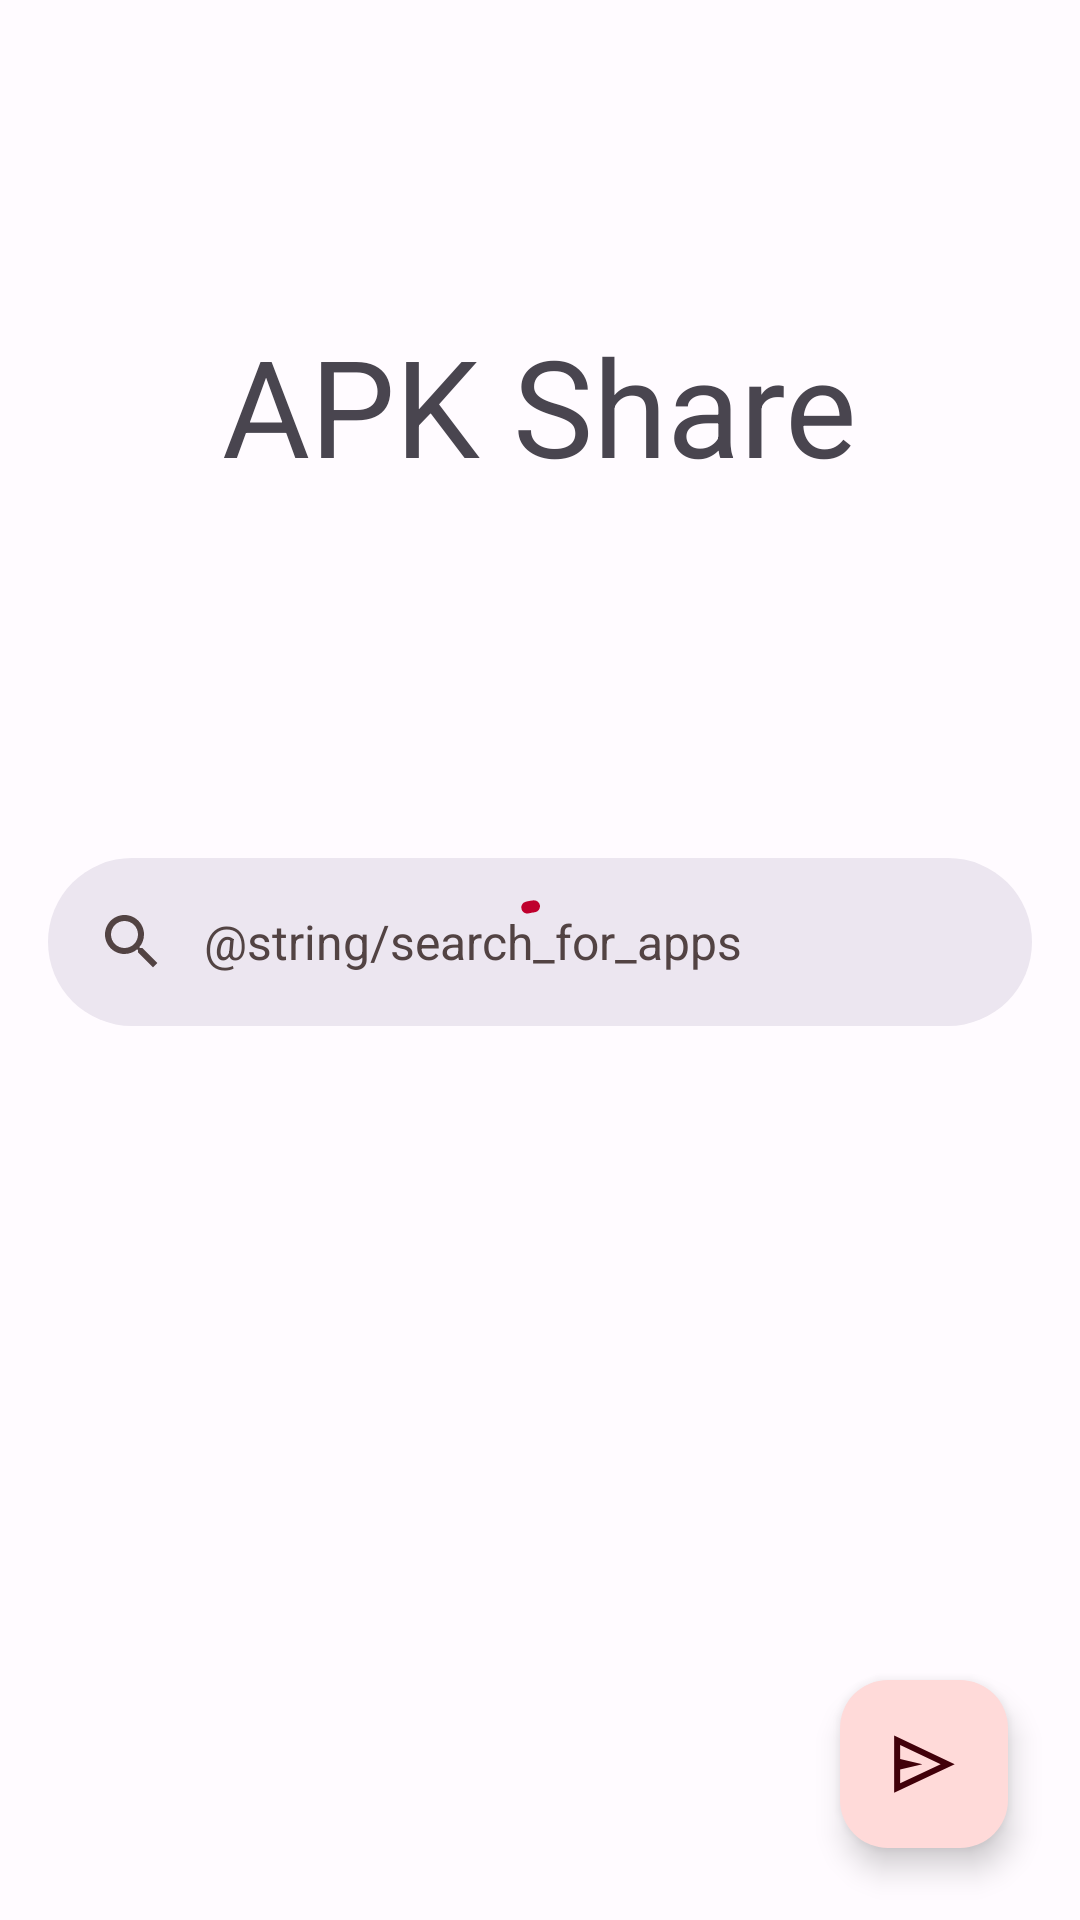

Icons on this 1080 × 1920 Android screen, each with the point to tap as (x=x, y=y):
Send: (x=924, y=1764)
